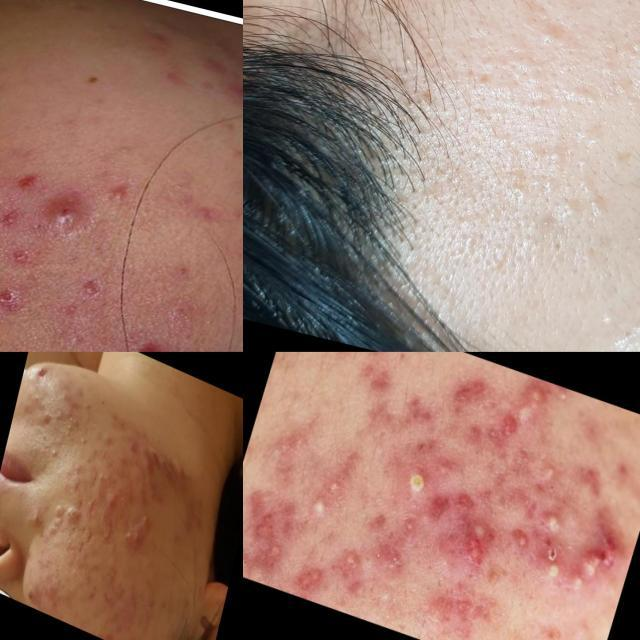Pimples: (28, 178, 108, 248), (565, 518, 627, 602), (460, 502, 506, 568), (510, 378, 558, 436), (244, 496, 288, 550), (394, 458, 436, 506), (478, 407, 520, 455), (181, 195, 231, 234), (420, 482, 460, 528), (108, 327, 178, 352), (398, 389, 438, 428), (122, 504, 152, 554), (291, 554, 325, 597), (136, 442, 171, 480), (514, 487, 546, 528), (104, 480, 134, 523), (538, 501, 568, 543), (540, 552, 570, 592), (100, 176, 136, 207), (62, 459, 88, 497), (318, 472, 348, 502), (305, 491, 334, 522), (450, 591, 476, 623), (64, 497, 86, 531), (19, 498, 43, 529), (44, 514, 66, 546), (93, 520, 115, 546), (48, 496, 68, 524), (32, 356, 50, 384), (108, 409, 130, 429), (84, 493, 100, 518), (128, 440, 140, 458)
